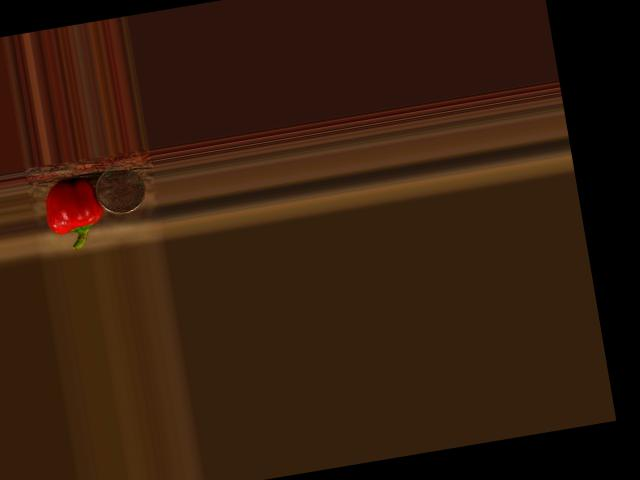bell_pepper: (40, 173, 106, 252)
